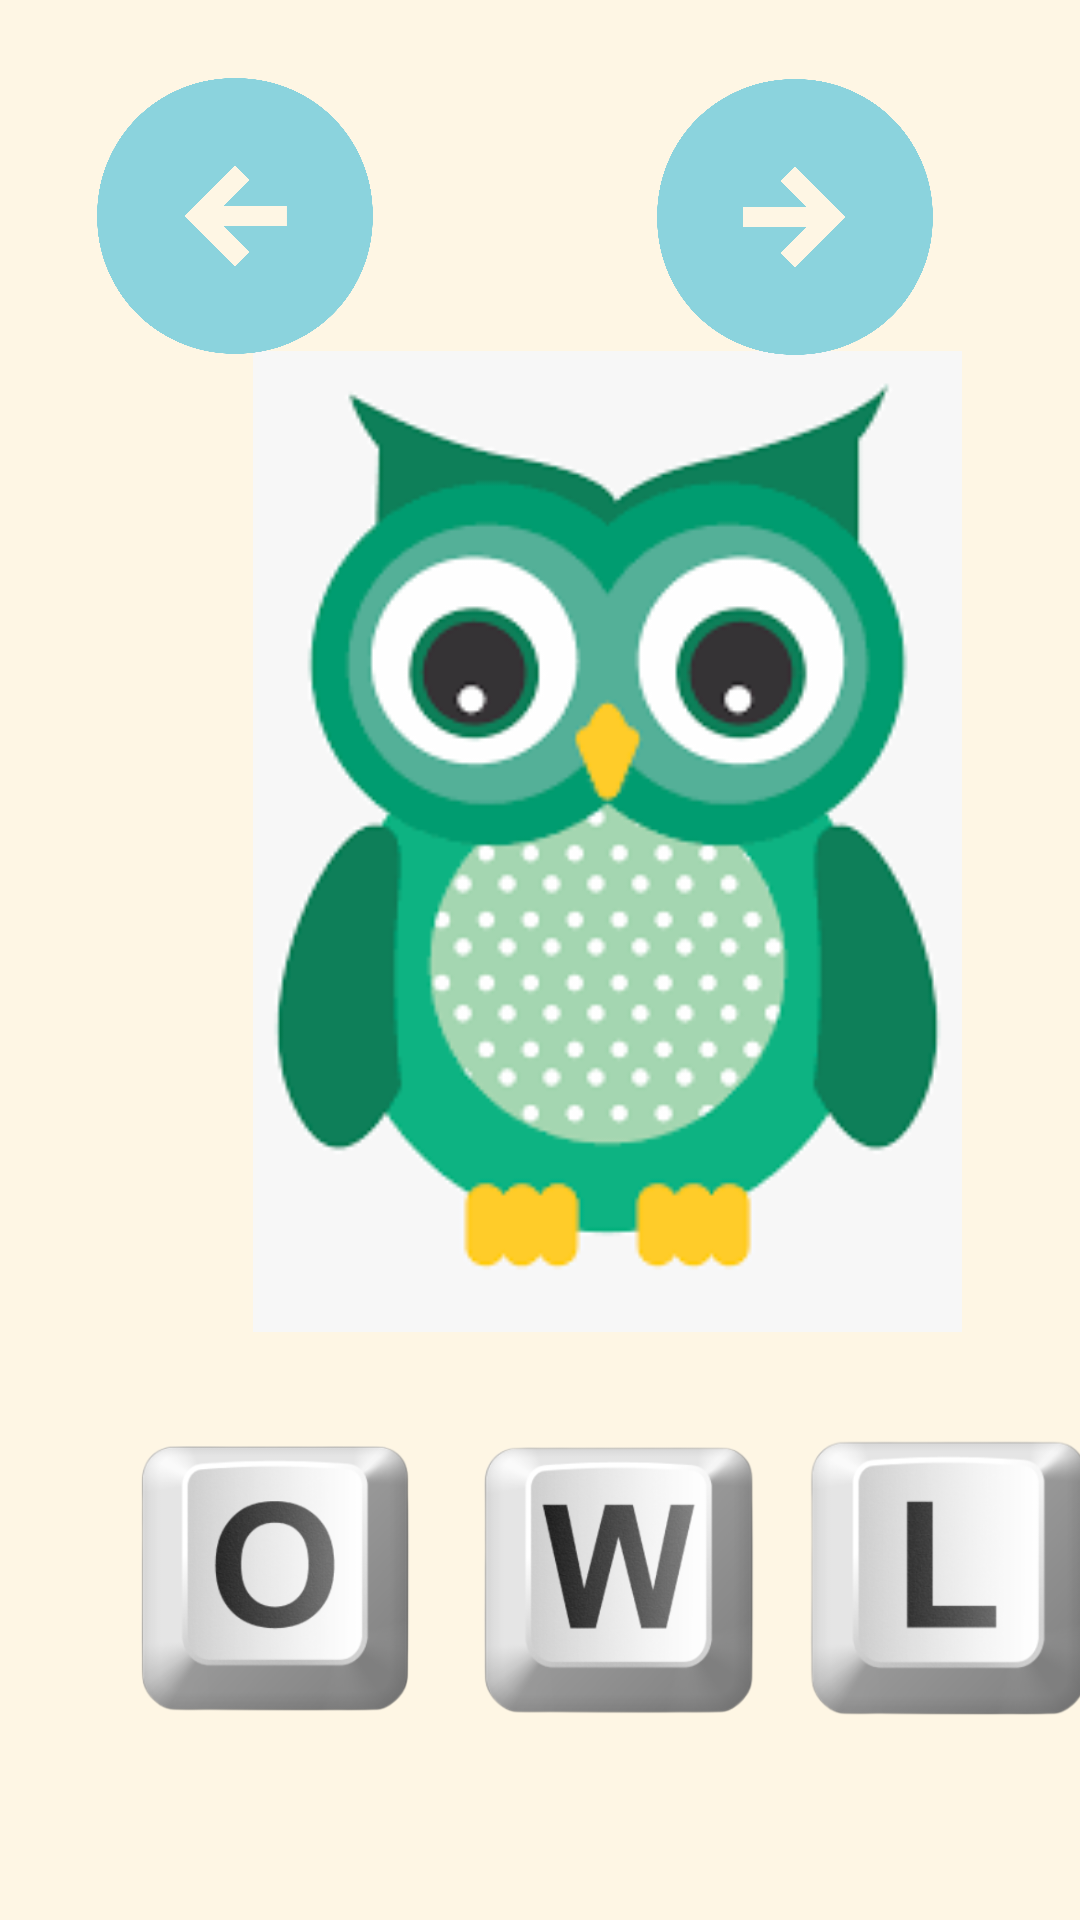

Screen size 1080 x 1920. Icon name, then its center in pixels as [x,y]:
back: [235,216]
key: [945,1578], [275,1578], [619,1580]
next: [795,217]
